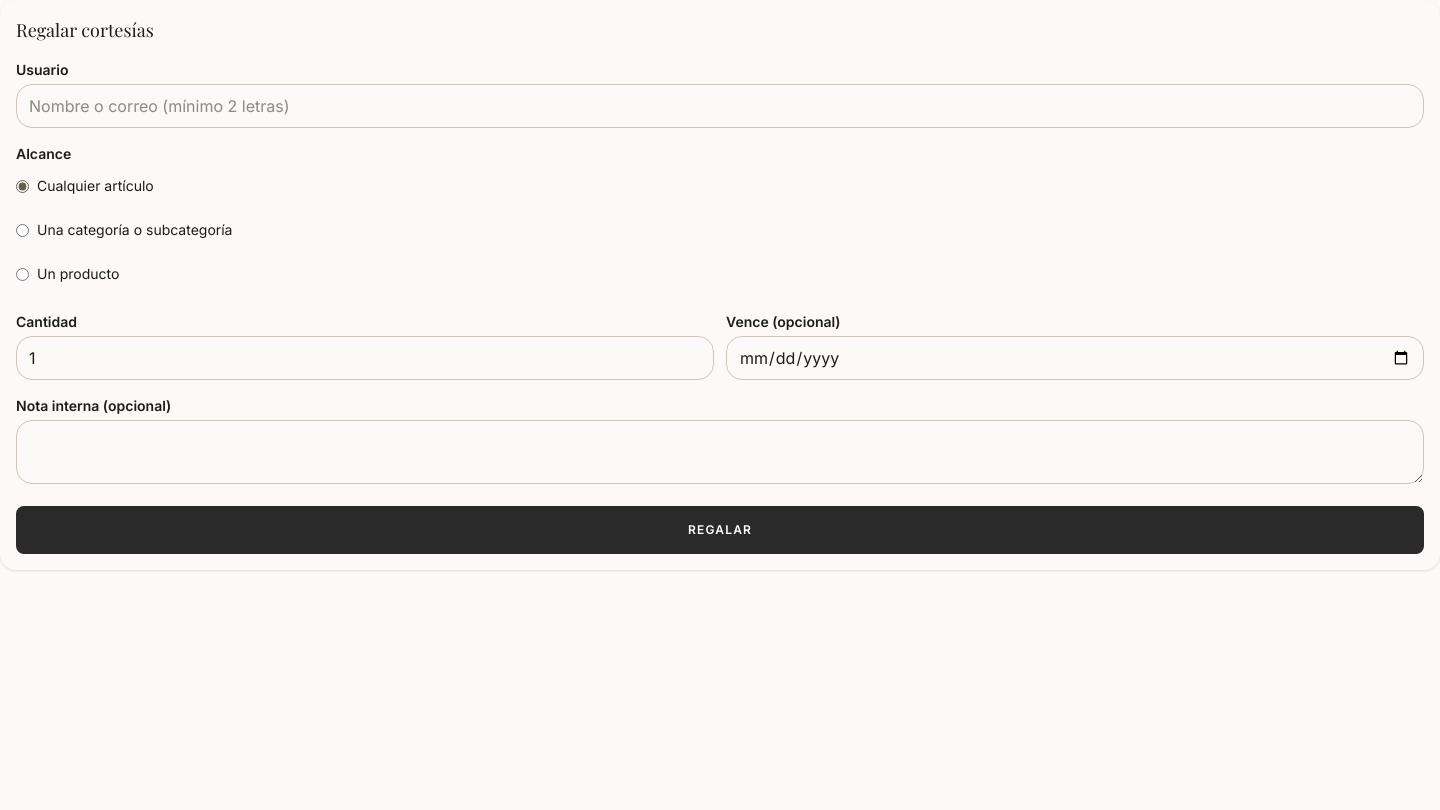
Test: GrantCourtesyForm › no se puede enviar sin elegir usuario; sin alcance válido hay error en el campo
What coordinates should you click on to do the following:
click the radio button labelled "Una categoría o subcategoría"
I would click on:
 (22, 230)
Its box is [16,224,29,236].
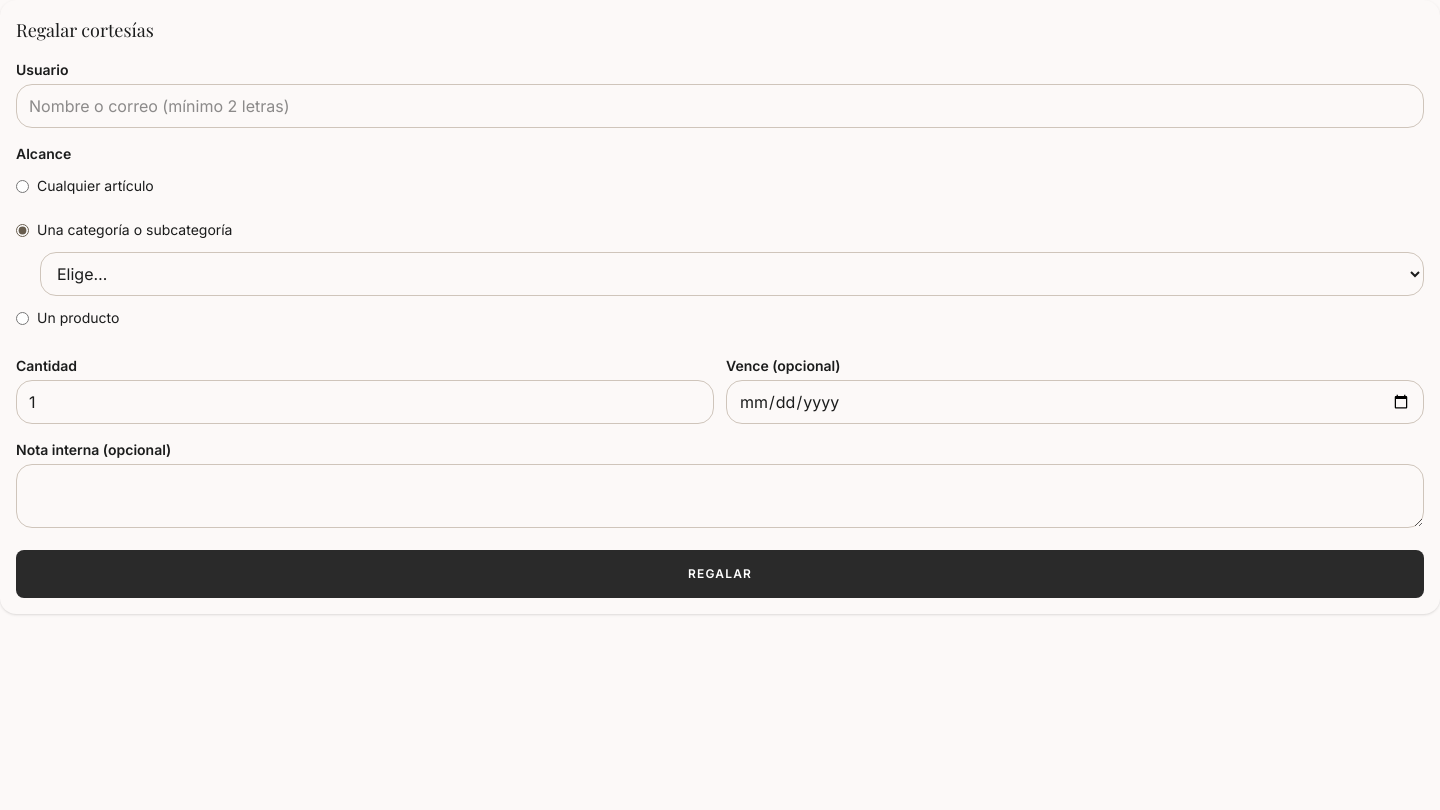
What coordinates should you click on to do the following:
click the button "Regalar"
I would click on:
 (720, 574)
Its box is [16,550,1424,598].
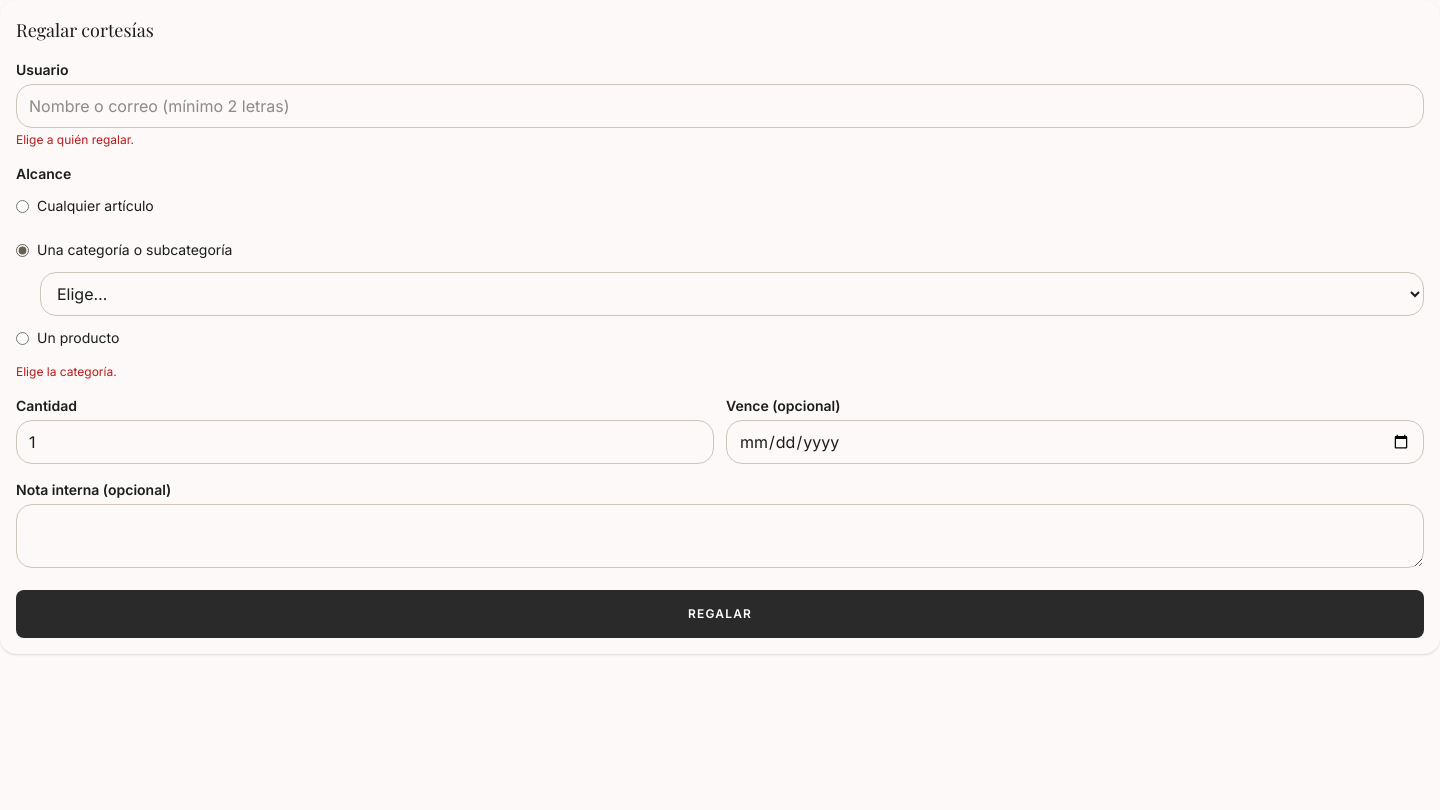
Result: the text "Elige a quién regalar." is shown at [16,132,134,147]
Result: the text "Elige la categoría." is shown at [16,364,117,379]
